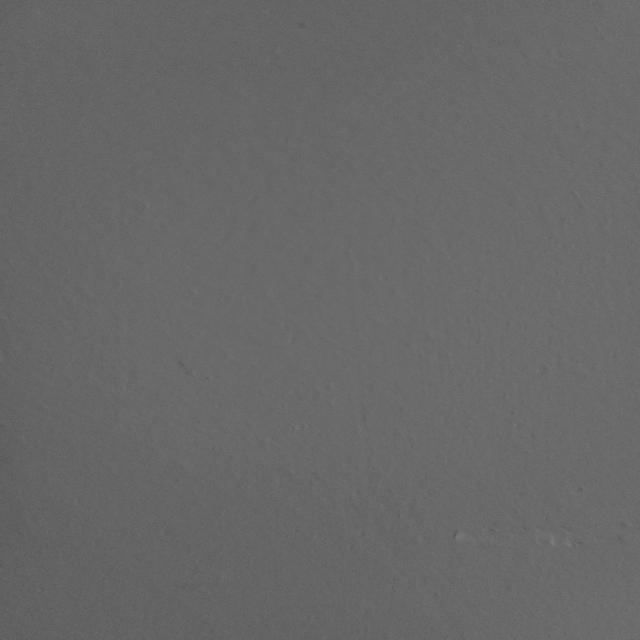rough and patchy surface: (9, 6, 628, 620)
